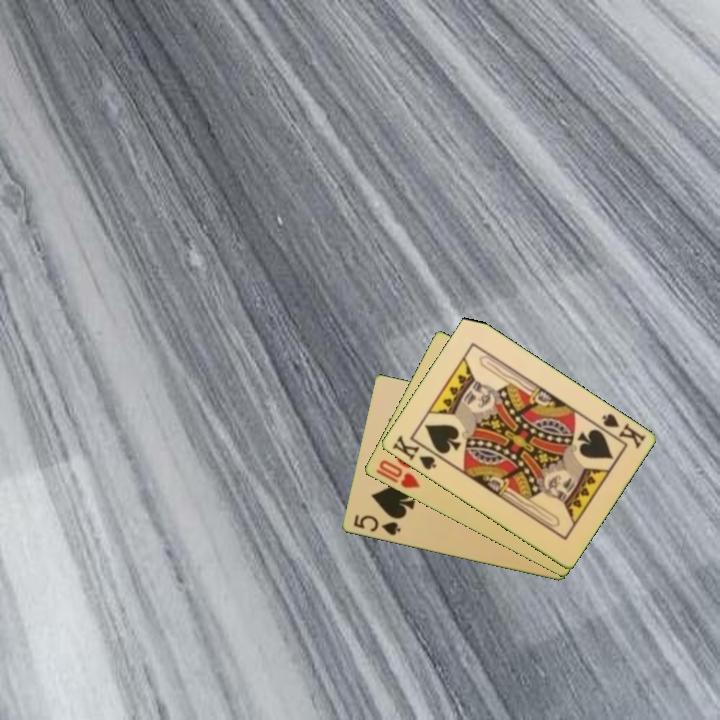10h: (372, 456, 423, 492)
5s: (350, 511, 403, 539)
Ks: (593, 410, 648, 452), (388, 432, 444, 473)
